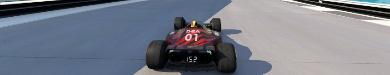Car: (145, 16, 236, 72)
